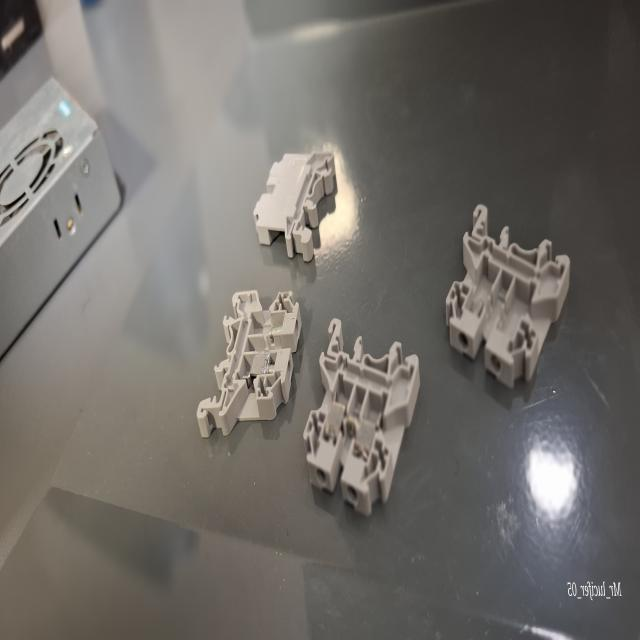Inverted: (232, 132, 336, 290)
Pass: (299, 289, 427, 531)
Reject: (443, 196, 573, 411), (189, 284, 307, 454)
